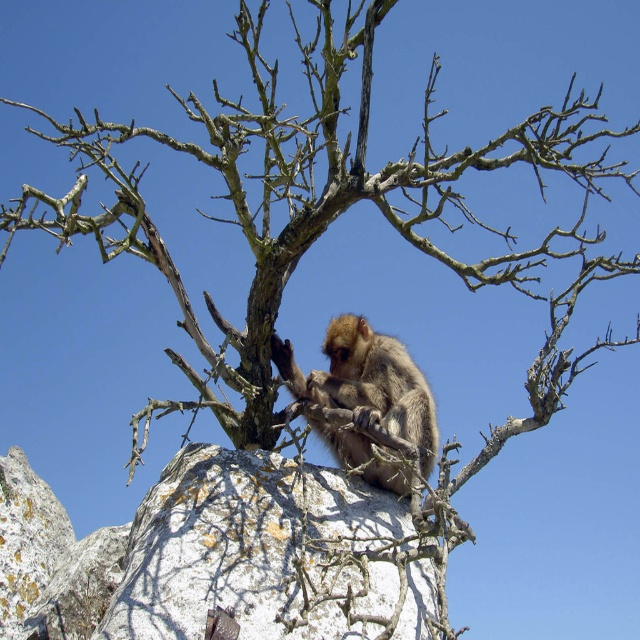Monkey: (320, 318, 442, 502)
